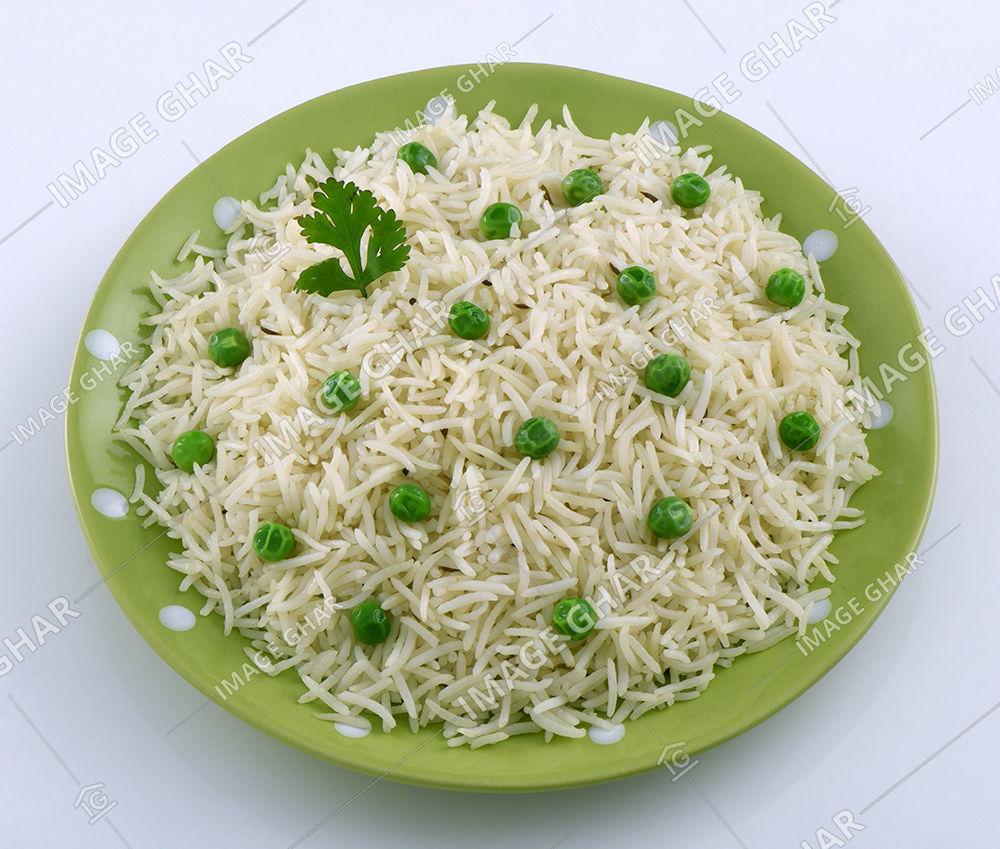boiled peas: (479, 200, 528, 247), (668, 170, 718, 214), (646, 498, 697, 538), (252, 521, 299, 564), (783, 414, 831, 455), (561, 162, 603, 208), (352, 596, 389, 648), (172, 430, 213, 474), (204, 329, 250, 368), (520, 420, 562, 461), (449, 306, 496, 342), (386, 487, 429, 524), (647, 356, 687, 395), (557, 602, 597, 638), (769, 270, 808, 305), (400, 142, 439, 174)
plain rice: (194, 137, 844, 699)
